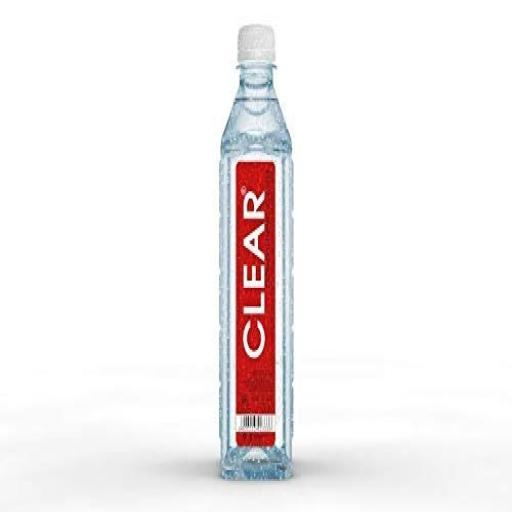bottle: (212, 15, 302, 489)
